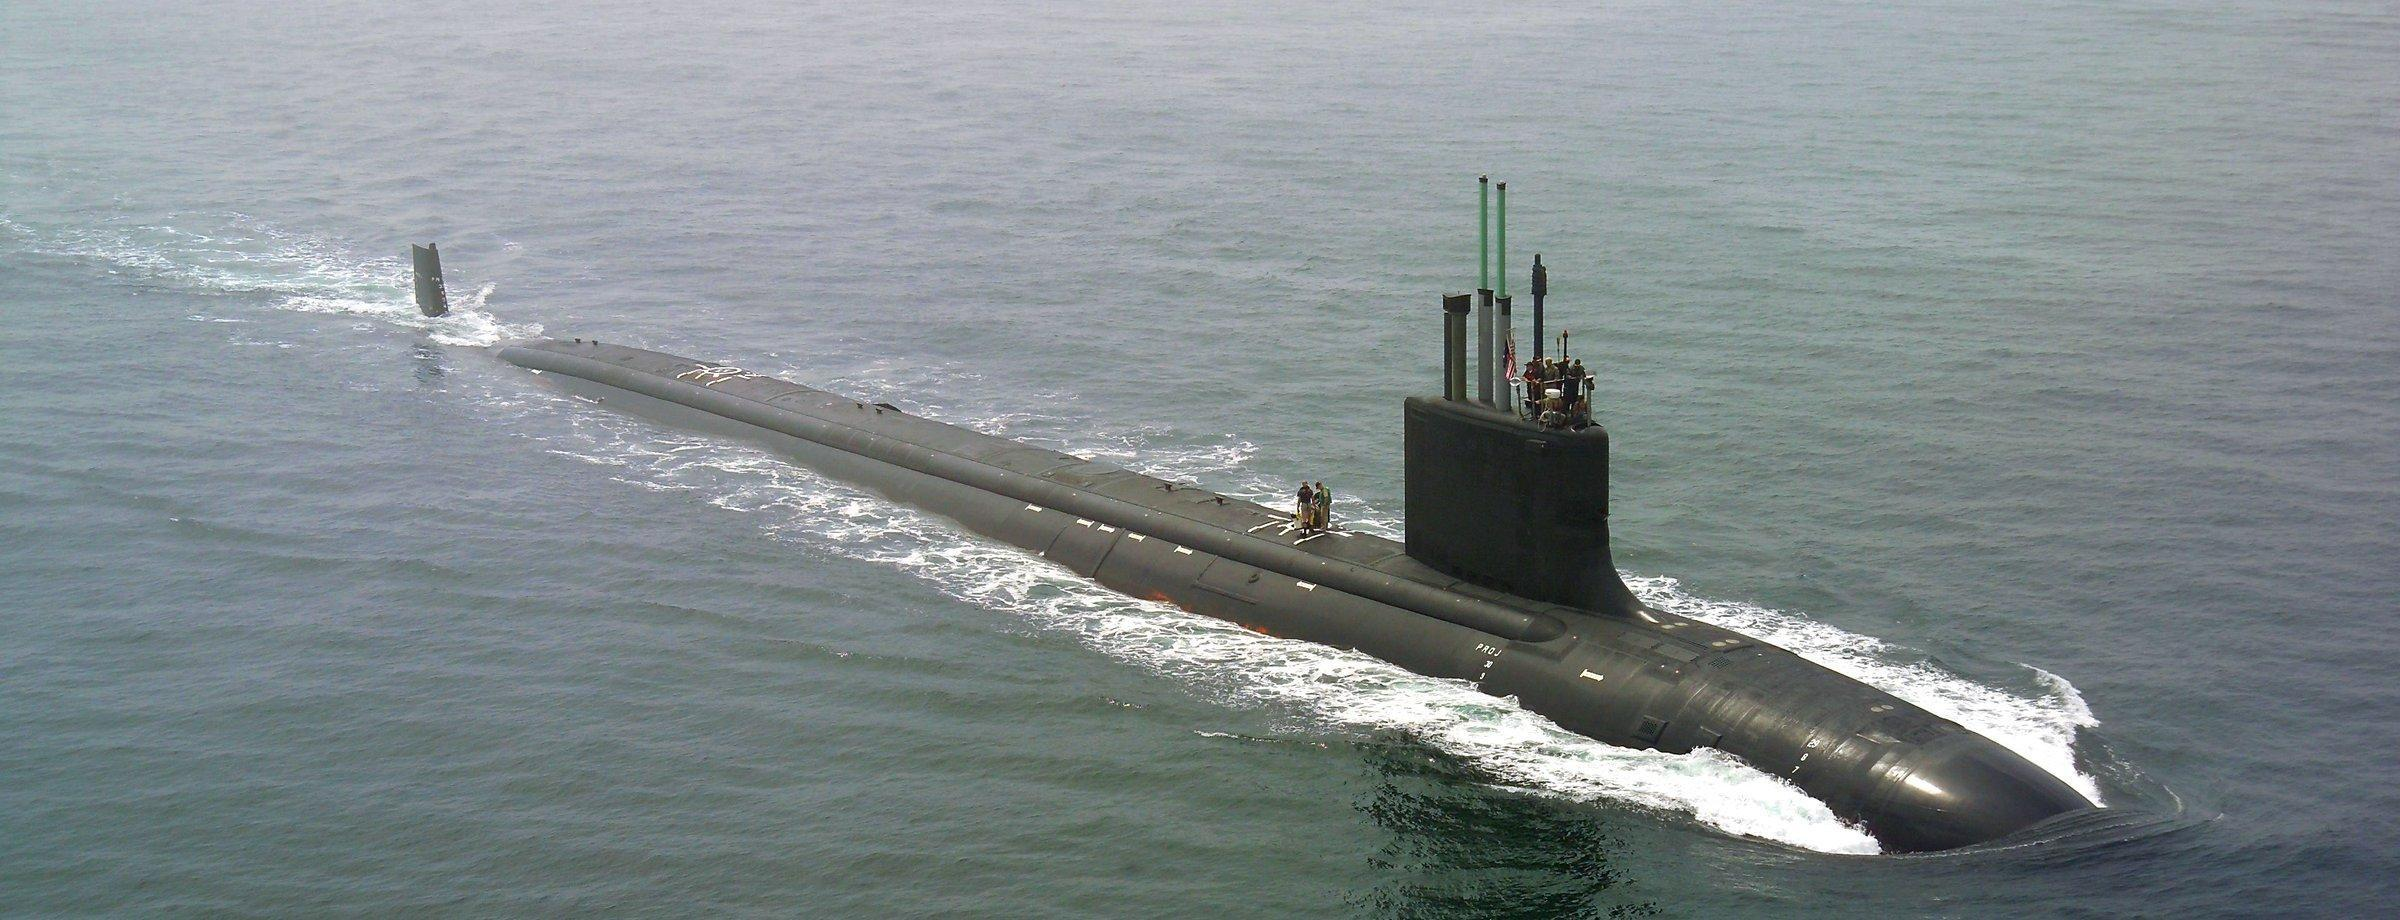Submarine: (230, 150, 2346, 920)
